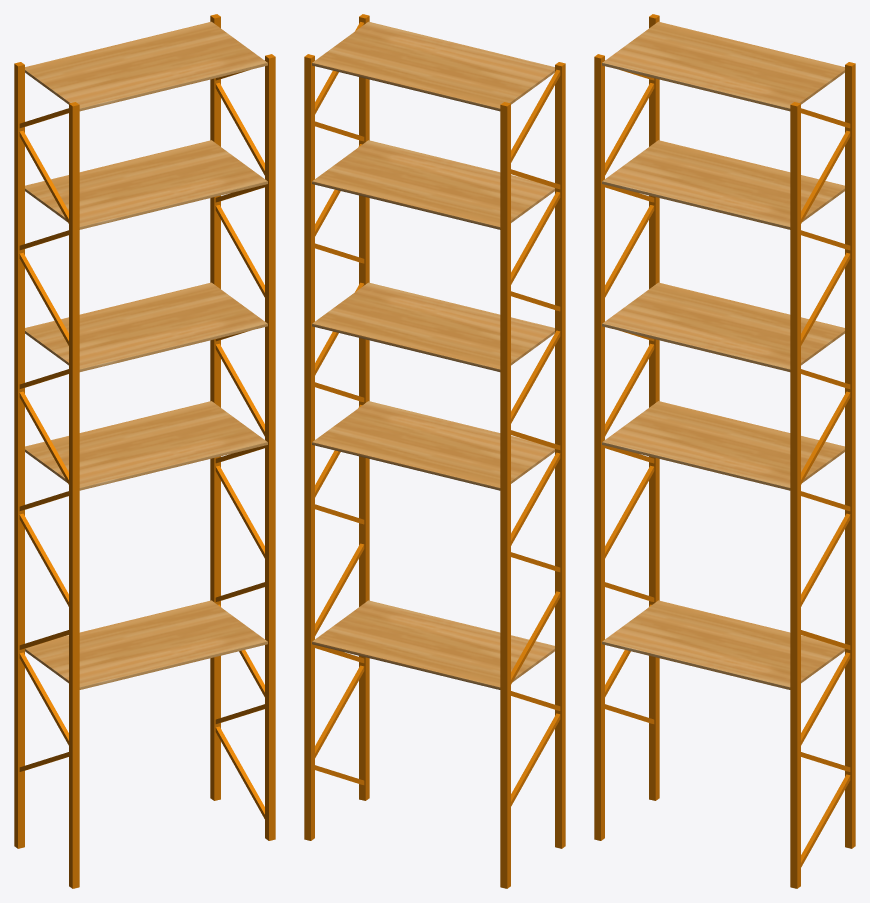
Rendered from Industrial_Rack_05.fbx.
3 views of the same model, side by side, from view 1: azimuth 30°, elevation 25°; view 2: azimuth 150°, elevation 25°; view 3: azimuth 330°, elevation 25° (orthographic).
Parts seen in each view (by area): view 1: Industrial_Rack_05; view 2: Industrial_Rack_05; view 3: Industrial_Rack_05.
Boxes of the visible parts, x1,y1,x2,y2 form: Industrial_Rack_05: (14, 14, 275, 888); Industrial_Rack_05: (304, 14, 565, 888); Industrial_Rack_05: (594, 14, 855, 888).
Bounding box in the file's own units: 2 × 7.37 × 1.
